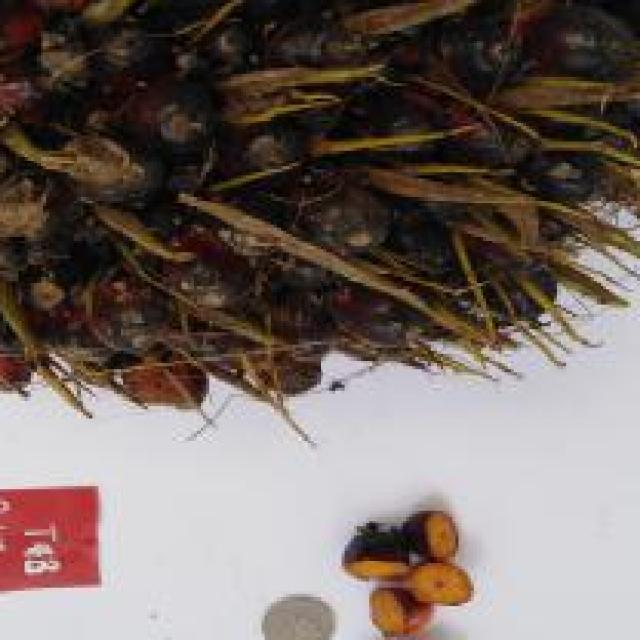unripe: (0, 0, 640, 412)
